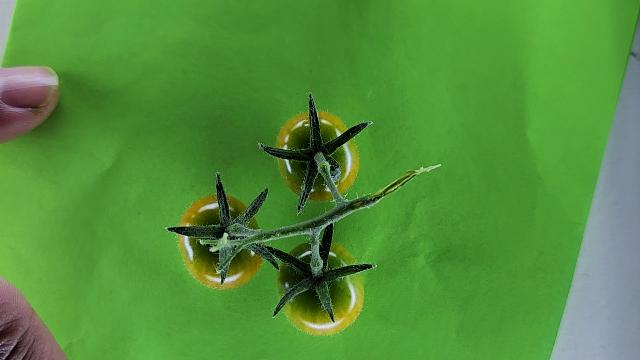Fully Grown: (176, 193, 265, 289), (278, 240, 366, 335), (274, 109, 360, 199)
